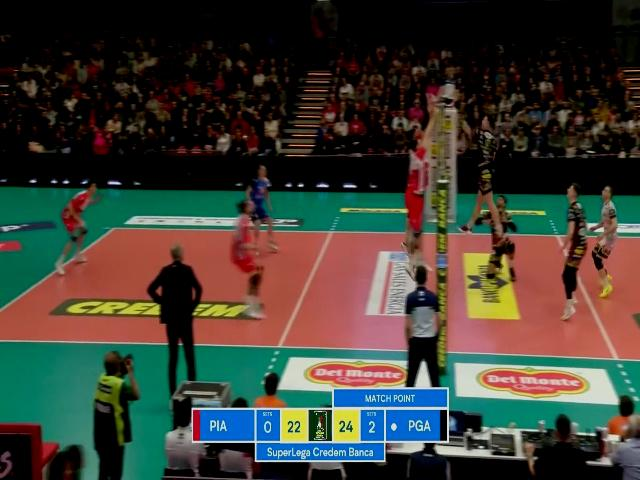volleyball court: (0, 224, 638, 359)
